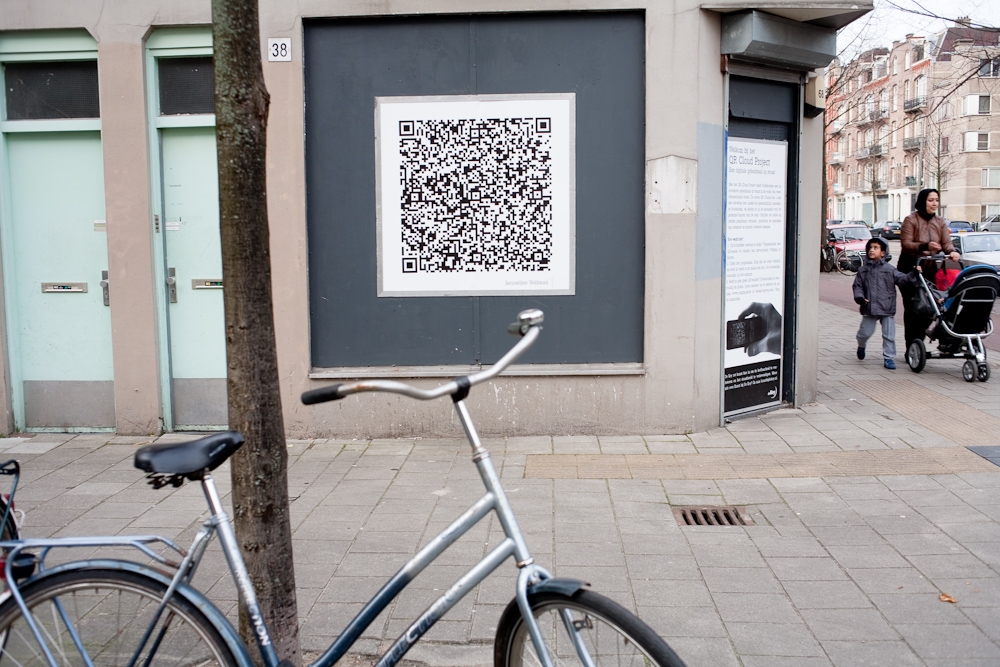QR-CODE: (399, 118, 551, 272)
